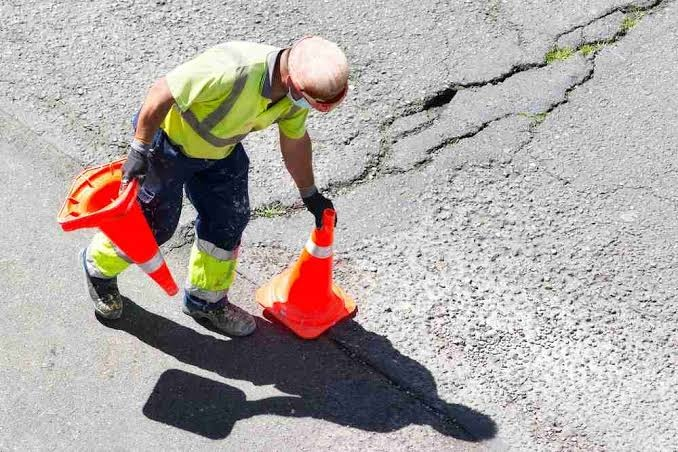hardhat: (281, 41, 351, 113)
person: (73, 37, 357, 349)
safety_cone: (51, 158, 191, 308), (255, 198, 390, 342)
safety_vest: (147, 39, 303, 155)
